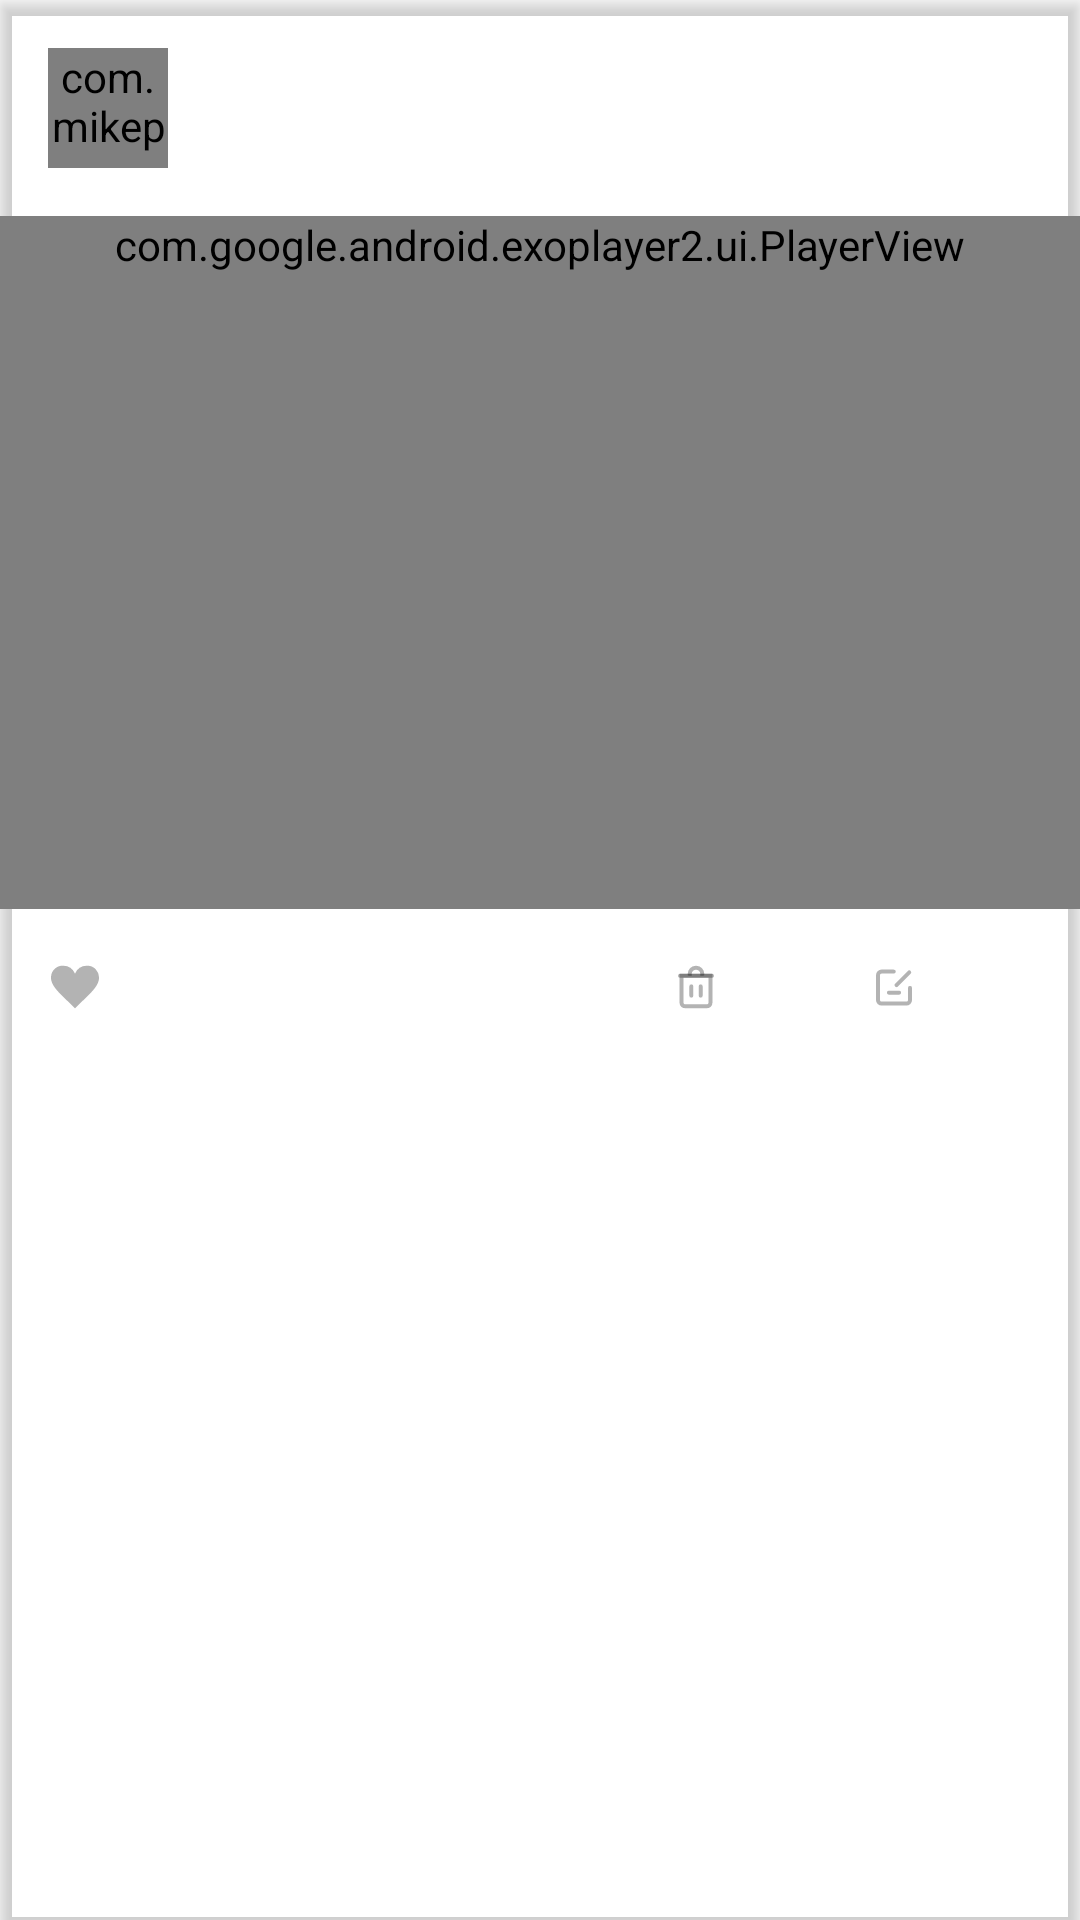

Locate icon controls on the screen. Image size 1080px x 1920px, boxes as (x1, y1, x2, y2).
delete: (678, 966, 714, 1008)
edit: (876, 969, 912, 1006)
like: (51, 966, 99, 1008)
